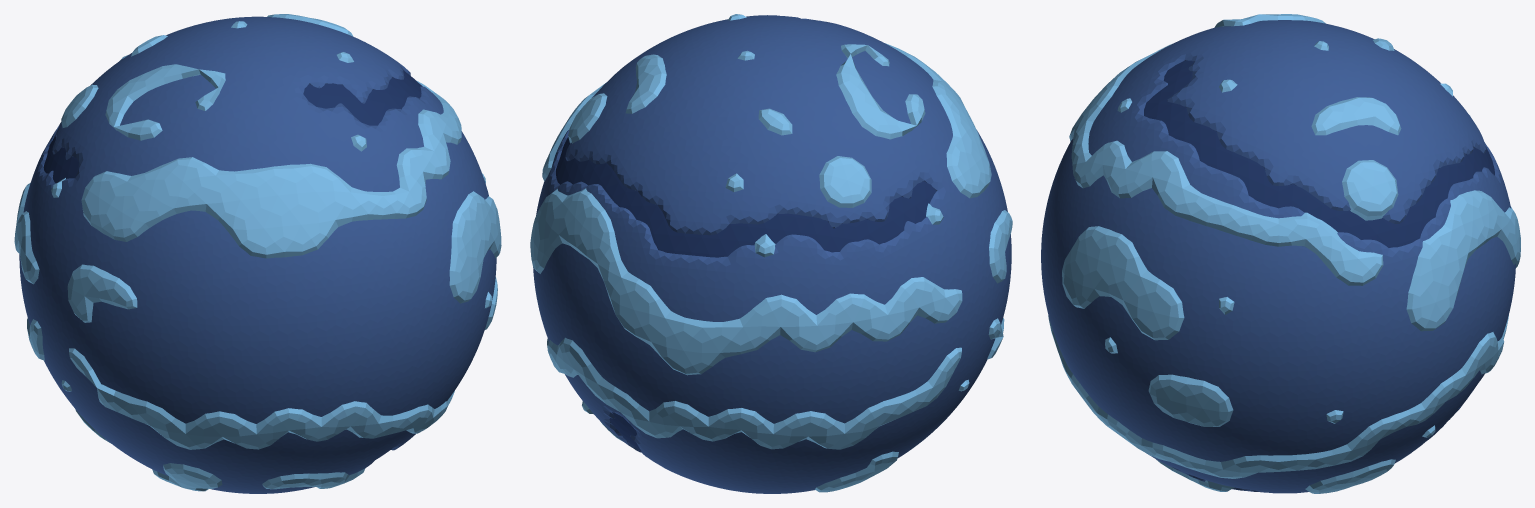
Rendered from neptune.glb.
3 views of the same model, side by side, from view 1: azimuth 30°, elevation 25°; view 2: azimuth 150°, elevation 25°; view 3: azimuth 270°, elevation 25° (orthographic).
Parts seen in each view (by area): view 1: Base 2, Exterior, Icosphere; view 2: Base 2, Exterior, Icosphere; view 3: Base 2, Exterior, Icosphere.
Part boxes in pixels (box(x1,y1,x2,y2)): Base 2: box(19, 16, 496, 493); Exterior: box(14, 14, 501, 491); Icosphere: box(43, 70, 421, 451); Base 2: box(533, 15, 1011, 493); Exterior: box(530, 14, 1012, 492); Icosphere: box(556, 137, 935, 450); Base 2: box(1041, 20, 1515, 493); Exterior: box(1048, 14, 1520, 493); Icosphere: box(1144, 60, 1494, 247).
Size of the model in its own units: 2.05 by 2.08 by 2.07.
